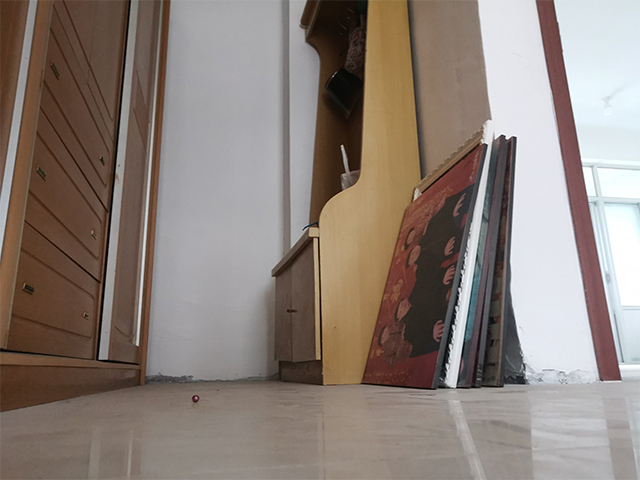cabinet: (1, 1, 173, 413), (270, 227, 359, 387)
